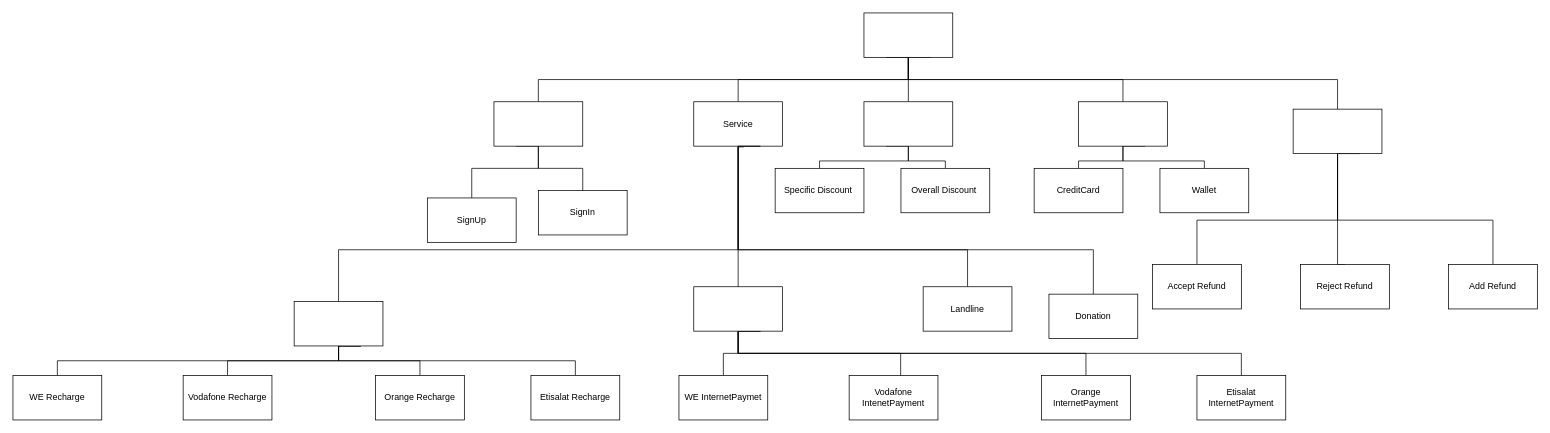
This 1550x433 diagram has some shape labels left out. The shapes that lost their labels are listed below. From the top down, each one's box as (x1, y1, x2, y2) in pixels, then its label:
(863, 12, 953, 57): Fawry System
(493, 101, 583, 146): Authorize
(863, 101, 953, 146): Add Discount
(1078, 101, 1167, 146): Payment
(1292, 108, 1382, 154): Refund
(293, 301, 383, 346): Recharge
(693, 286, 783, 331): InternetPayment
